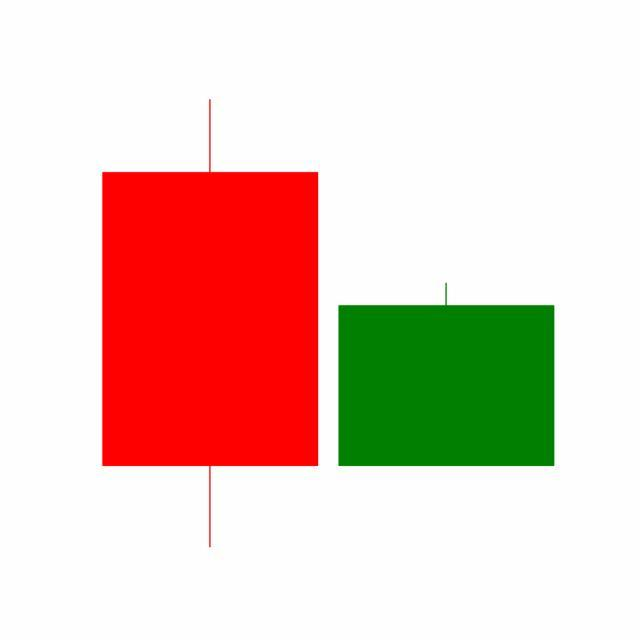Marubozu: (328, 281, 566, 468)
